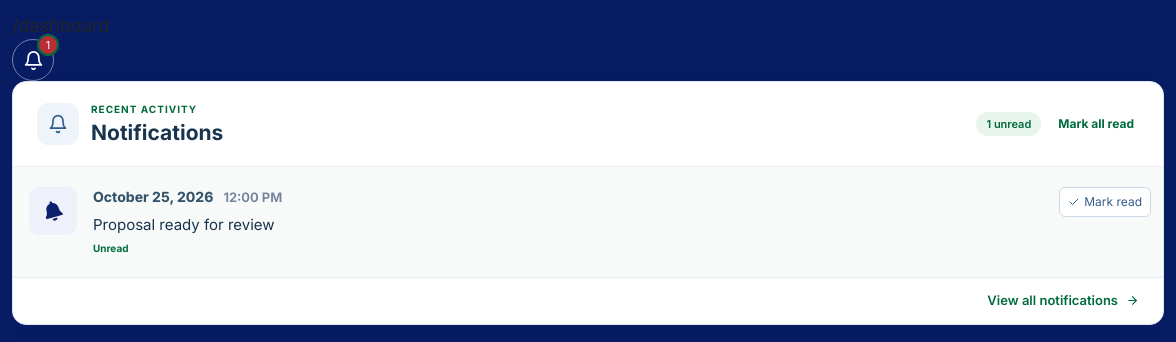
Test: shows real notifications and synchronizes the bell after reading
Expected: the button "1" is shown, [12, 39, 54, 81]
Click the button "Mark read" at [1105, 202], box [1059, 187, 1151, 217]
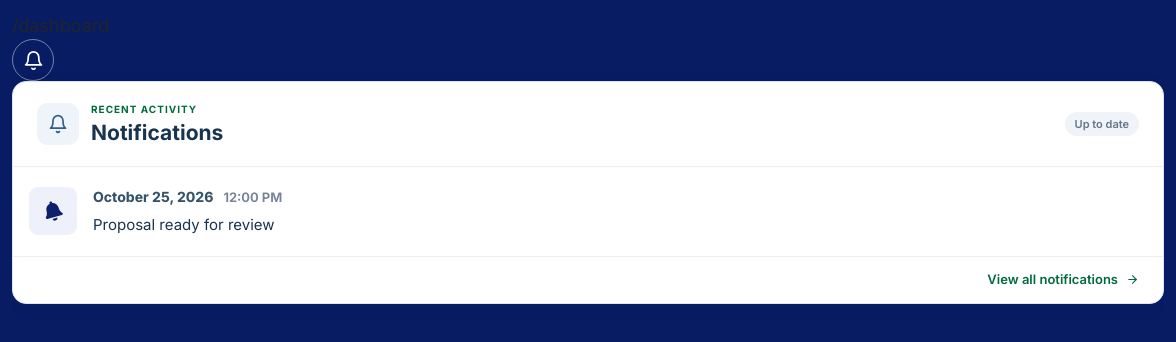
Expected: the text with id "current-path" reads "/dashboard", [12, 15, 109, 36]
Expected: the text with class "notification-unread-label" is gone
